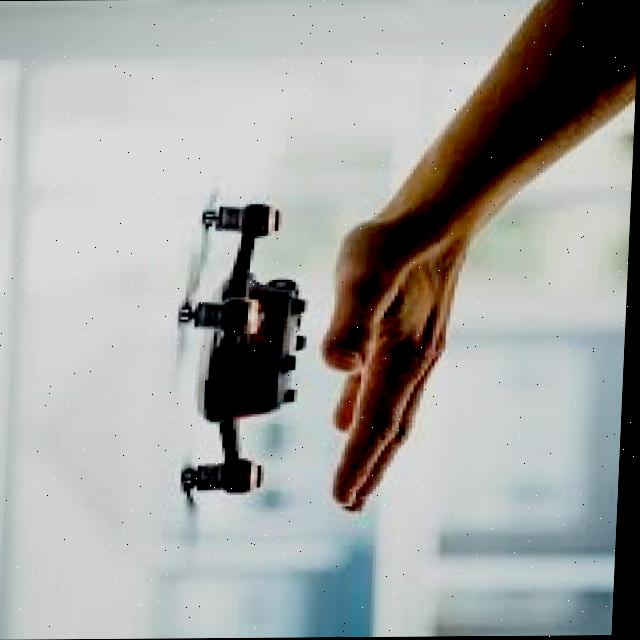drone: (145, 175, 348, 536)
